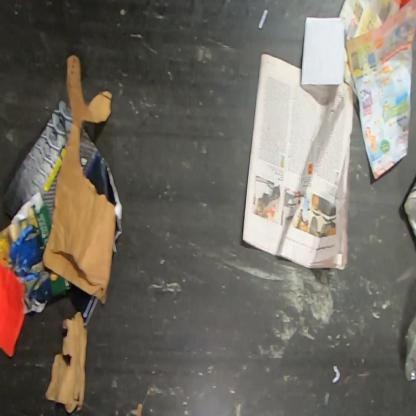cardboard: (0, 252, 27, 358)
soft_plastic: (403, 315, 415, 383)
